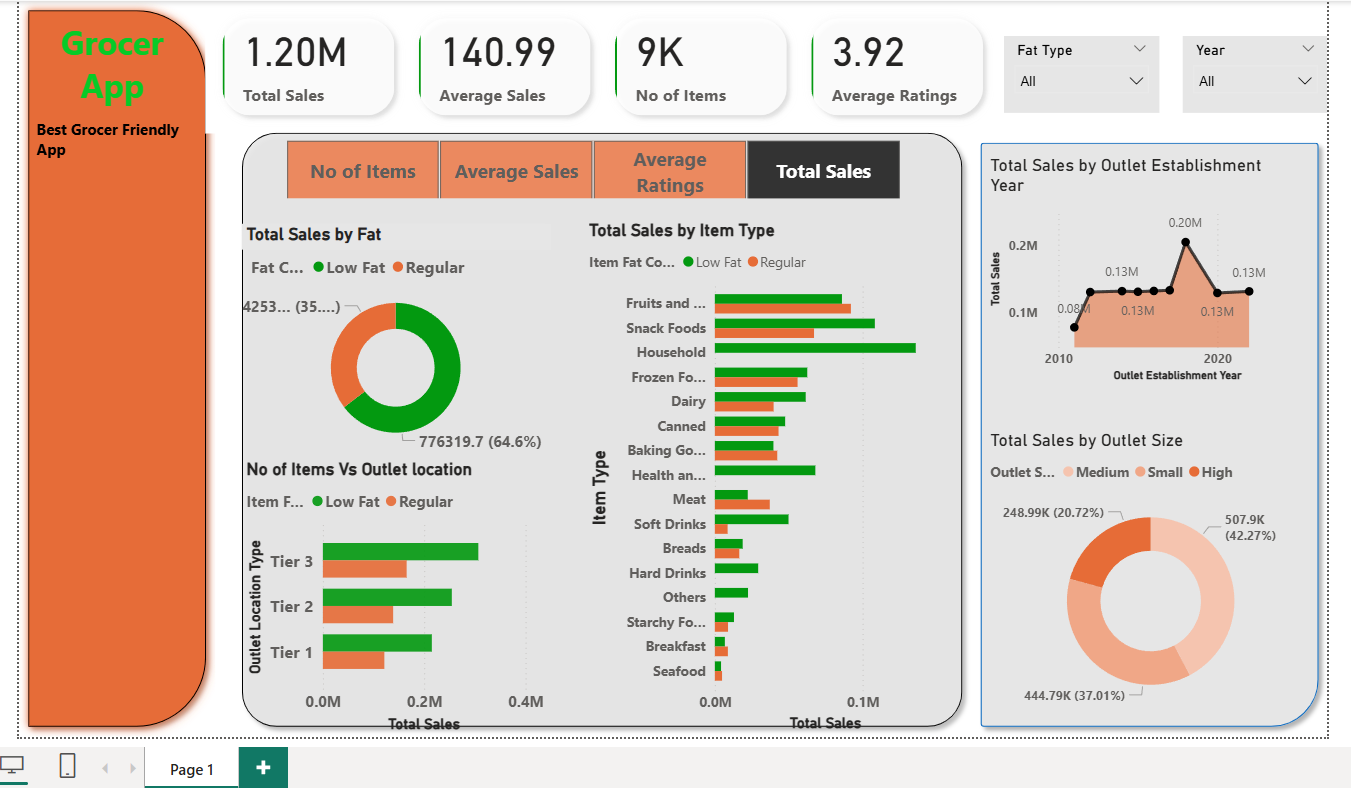

The page's visual inventory and layout, read from the dashboard file:
{"tool":"powerbi","page":{"name":"Page 1","canvas":[1280,720],"ordinal":0},"visuals":[{"type":"shape","box":[0,0,192,719],"z":1},{"type":"textbox","box":[0,13.7,182.5,105.7],"z":2},{"type":"textbox","box":[12.2,110.1,156.5,56.3],"z":3},{"type":"cardVisual","fields":{"Data":["BlinkIT Grocery Data.Total Sales","BlinkIT Grocery Data.Average Sales","BlinkIT Grocery Data.No of Items","BlinkIT Grocery Data.Average Ratings"]},"box":[182.7,0,781.5,129.6],"z":4},{"type":"shape","box":[209.1,119.8,722.7,599.2],"z":5},{"type":"donutChart","title":"Total Sales by  Fat ","fields":{"Y":["BlinkIT Grocery Data.Total Sales"],"Category":["BlinkIT Grocery Data.Item Fat Content"]},"box":[217.7,217.7,302,229.9],"z":6},{"type":"slicer","fields":{"Values":["Metrics.Metrics"]},"box":[236,129.6,649.3,63.6],"z":7},{"type":"clusteredBarChart","title":"No of Items Vs Outlet location","fields":{"Category":["BlinkIT Grocery Data.Outlet Location Type"],"Series":["BlinkIT Grocery Data.Item Fat Content"],"Y":["BlinkIT Grocery Data.Total Sales"]},"box":[218.2,447.5,301.1,272.1],"z":8},{"type":"clusteredBarChart","title":"Total Sales by Item Type ","fields":{"Category":["BlinkIT Grocery Data.Item Type"],"Y":["BlinkIT Grocery Data.Total Sales"],"Series":["BlinkIT Grocery Data.Item Fat Content"]},"box":[552.4,214.1,366,505.5],"z":9},{"type":"shape","box":[931.8,129.6,348.5,589.4],"z":10},{"type":"lineChart","fields":{"Y":["BlinkIT Grocery Data.Total Sales"],"Category":["BlinkIT Grocery Data.Outlet Establishment Year"]},"box":[945.2,150.4,324.1,227.4],"z":11},{"type":"donutChart","fields":{"Category":["BlinkIT Grocery Data.Outlet Size"],"Y":["BlinkIT Grocery Data.Total Sales"]},"box":[945.2,419.4,324.1,284.9],"z":12},{"type":"slicer","fields":{"Values":["BlinkIT Grocery Data.Item Fat Content"]},"box":[964.2,34.6,151.9,75.3],"z":13},{"type":"slicer","fields":{"Values":["BlinkIT Grocery Data.Outlet Establishment Year"]},"box":[1138.3,34.6,142,75.3],"z":14}]}

Visuals, with their boxes in screenshot pixels (x1, y1, x2, y2):
shape: [x1=25, y1=7, x2=217, y2=729]
textbox: [x1=25, y1=21, x2=208, y2=127]
textbox: [x1=37, y1=118, x2=194, y2=174]
cardVisual - BlinkIT Grocery Data.Total Sales x BlinkIT Grocery Data.Average Sales: [x1=208, y1=7, x2=993, y2=137]
shape: [x1=235, y1=127, x2=960, y2=729]
"Total Sales by  Fat " donutChart: [x1=243, y1=226, x2=546, y2=456]
slicer - Metrics.Metrics: [x1=262, y1=137, x2=913, y2=201]
"No of Items Vs Outlet location" clusteredBarChart: [x1=244, y1=456, x2=546, y2=730]
"Total Sales by Item Type " clusteredBarChart: [x1=579, y1=222, x2=947, y2=730]
shape: [x1=960, y1=137, x2=1310, y2=729]
lineChart - BlinkIT Grocery Data.Total Sales x BlinkIT Grocery Data.Outlet Establishment Year: [x1=974, y1=158, x2=1299, y2=386]
donutChart - BlinkIT Grocery Data.Outlet Size x BlinkIT Grocery Data.Total Sales: [x1=974, y1=428, x2=1299, y2=714]
slicer - BlinkIT Grocery Data.Item Fat Content: [x1=993, y1=42, x2=1145, y2=117]
slicer - BlinkIT Grocery Data.Outlet Establishment Year: [x1=1167, y1=42, x2=1310, y2=117]
